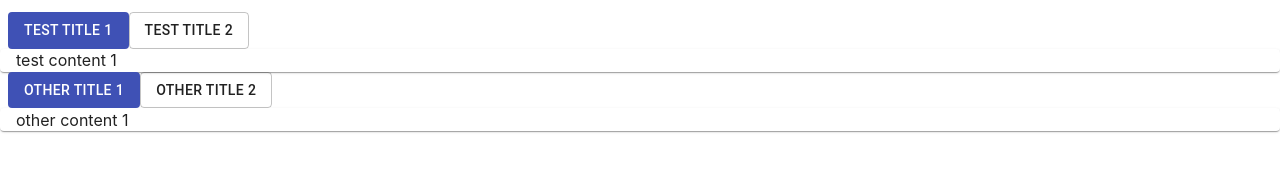
Scenario: The TabPanel Component › clicking a tab changes the content of only the associated tabpanel
This screenshot has width=1280, height=172.
Expected: the text "test title 1" is shown, [24,18,112,42]
Expected: the text "test content 1" is shown, [16,50,117,70]
Click the tab "test title 2". click: click(189, 30)
box: [128,12,249,48]
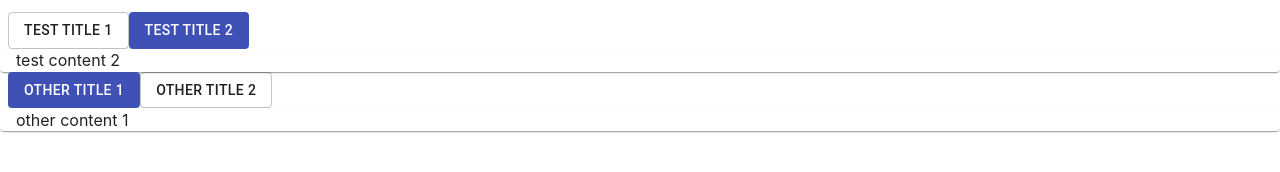
Expected: the text "test title 1" is shown, [24,18,112,42]
Expected: the text "test content 1" is gone
Expected: the text "test content 2" is shown, [16,50,120,70]
